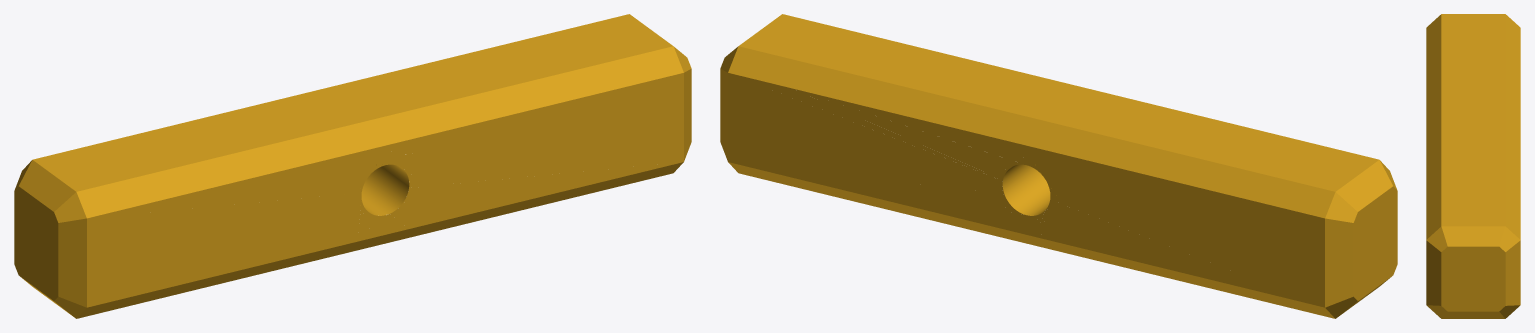
The model's file is takoz-krupp-hm-1500-side-buffer-02.glb.
The picture shows the model from 3 angles, left to right: view 1: azimuth 30°, elevation 25°; view 2: azimuth 150°, elevation 25°; view 3: azimuth 270°, elevation 25°; orthographic projection. The views are drawn at different scales.
Visible parts, largest first — view 1: body; view 2: body; view 3: body.
Part boxes in pixels (x1,y1,x2,y2): body: (14, 14, 691, 318); body: (720, 14, 1397, 318); body: (1426, 14, 1520, 318).
Size of the model in its own units: 0.245 by 0.047 by 0.0435.
